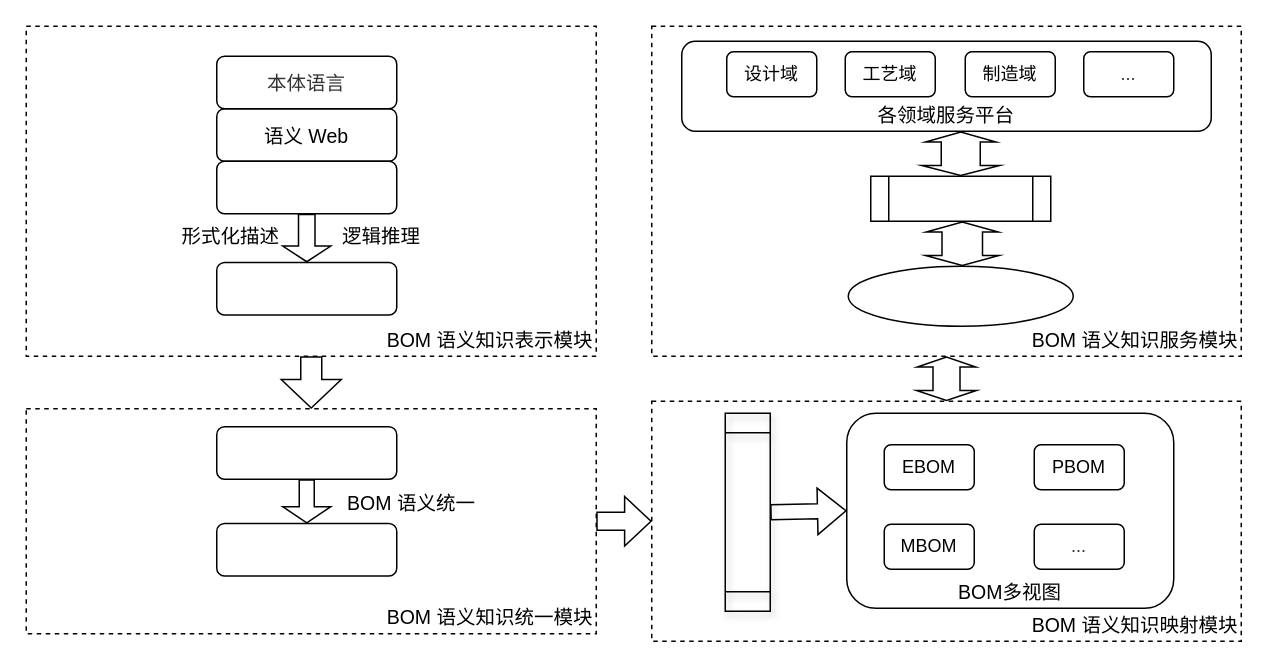
Some shapes in this 1268 by 668 pixel diagram are drawn without their labels. The centre of each missing label's shape, as x and y in pixels:
BOM 语义模型: (x=306, y=288)
Web 服务: (x=960, y=295)
业务逻辑组件: (x=960, y=198)
全局本体: (x=306, y=549)
局部、领域本体: (x=306, y=452)
描述逻辑: (x=306, y=187)
语 义 视 图 映 射: (x=748, y=513)
